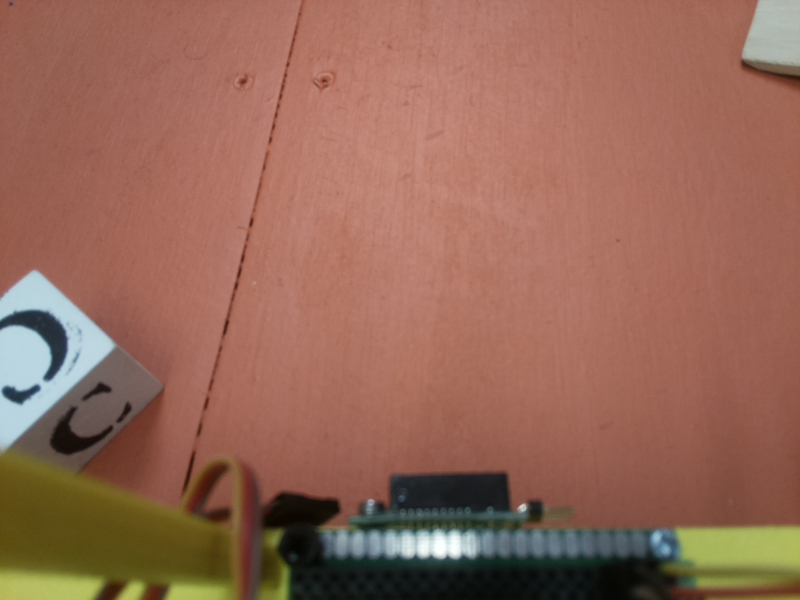blockC: (1, 268, 164, 488)
slope: (728, 1, 800, 81)
